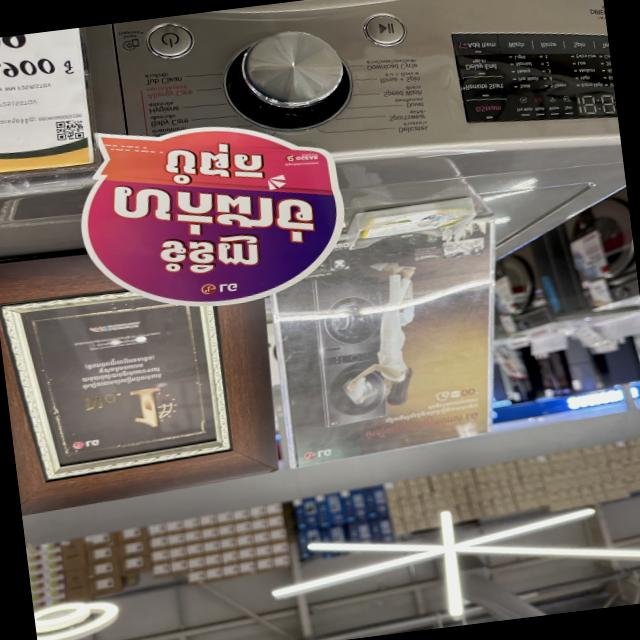Yolov11_80vkh: (104, 182, 317, 241), (153, 141, 270, 192), (148, 232, 264, 275)
